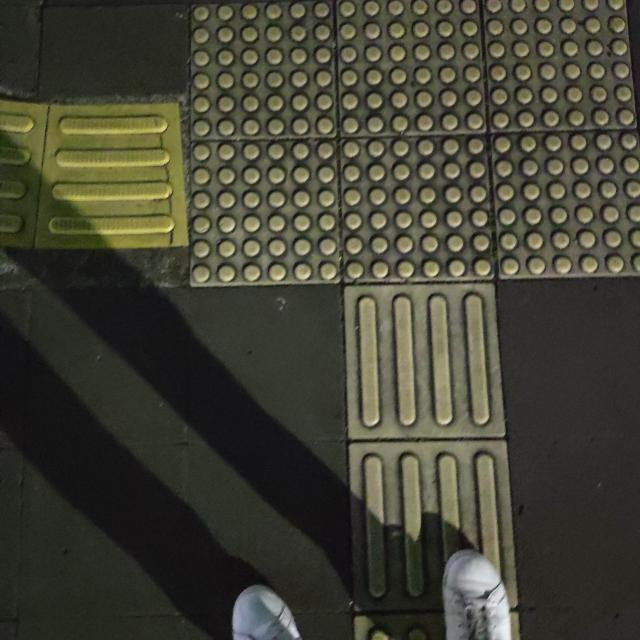kiri: (0, 54, 536, 408)
